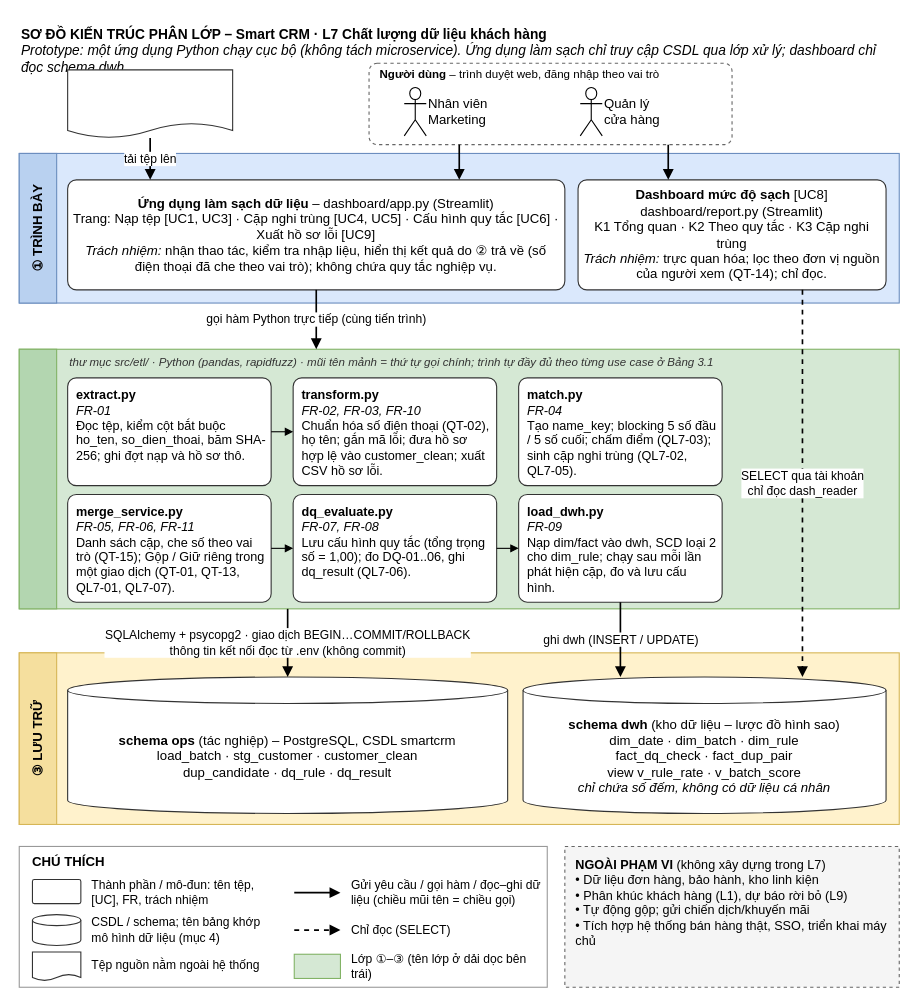
Some shapes in this 919 by 1007 pixel diagram are drawn without their labels. The centre of each missing label's shape, as x and y in pixels:
"Tệp khách hàng thô CSV/Excel · data/raw/ (ngoài hệ thống)" goes at pixel 150 103.
"② XỬ LÝ – NGHIỆP VỤ" goes at pixel 37 478.
